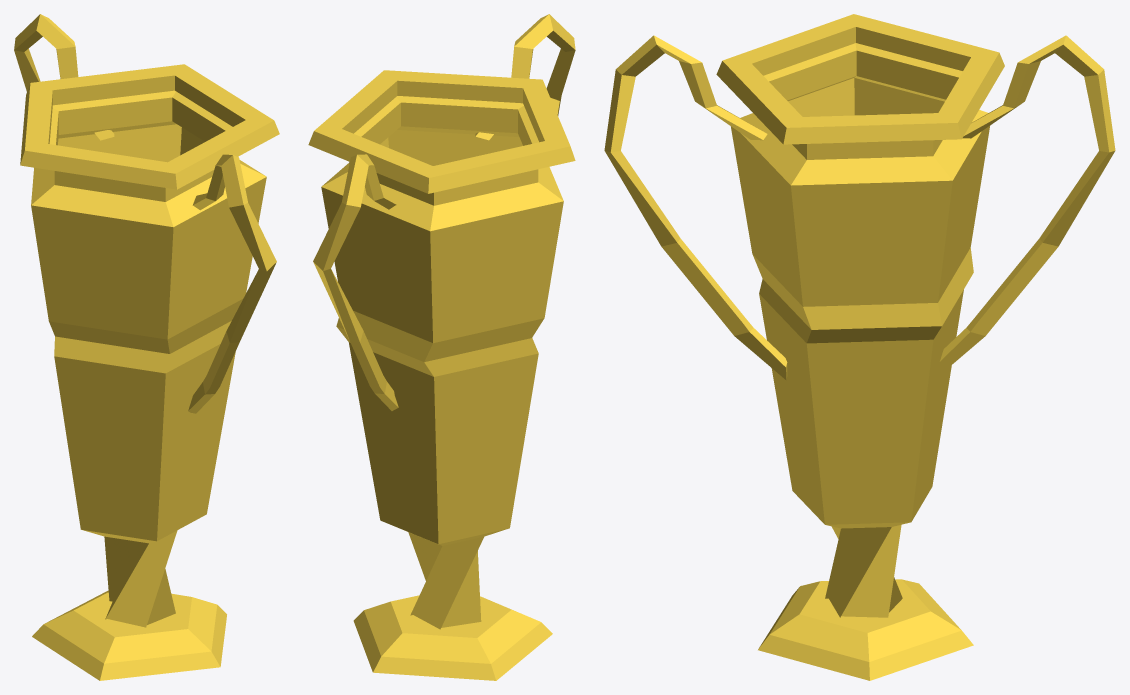
The model's file is goldCuphndles.FBX.
3 views of the same model, side by side, from view 1: azimuth 30°, elevation 25°; view 2: azimuth 150°, elevation 25°; view 3: azimuth 270°, elevation 25° (orthographic). The views are drawn at different scales.
Parts seen in each view (by area): view 1: Cylinder114; view 2: Cylinder114; view 3: Cylinder114.
Boxes of the visible parts, x1,y1,x2,y2 form: Cylinder114: (14, 14, 279, 680); Cylinder114: (308, 14, 575, 680); Cylinder114: (604, 14, 1115, 680).
Bounding box in the file's own units: 12.18 × 28.54 × 22.18.
